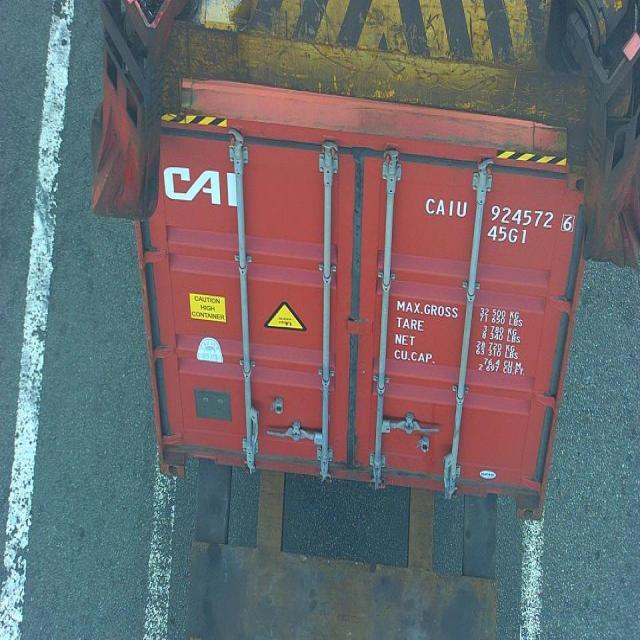ISO: (488, 224, 528, 244)
container_number: (430, 202, 578, 226)
